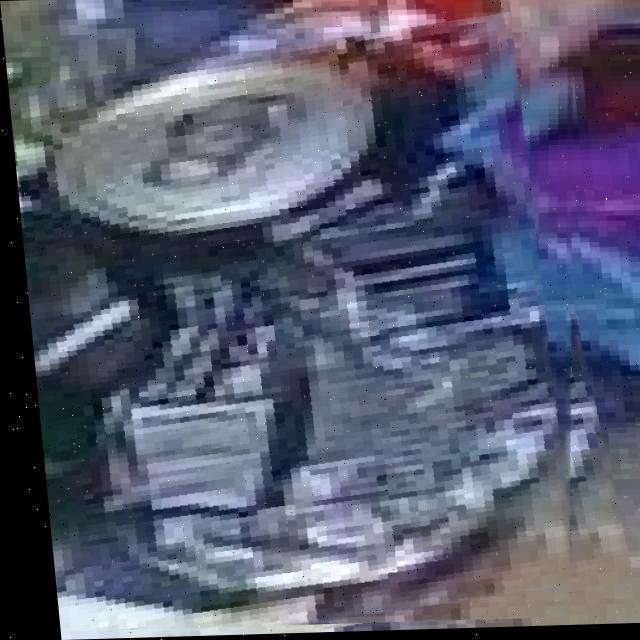can: (7, 27, 570, 625)
